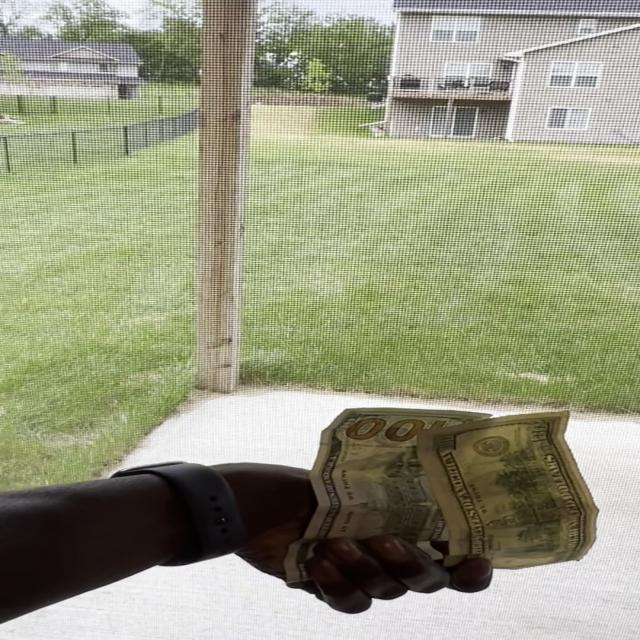hundred: (289, 406, 489, 582), (418, 408, 600, 570)
